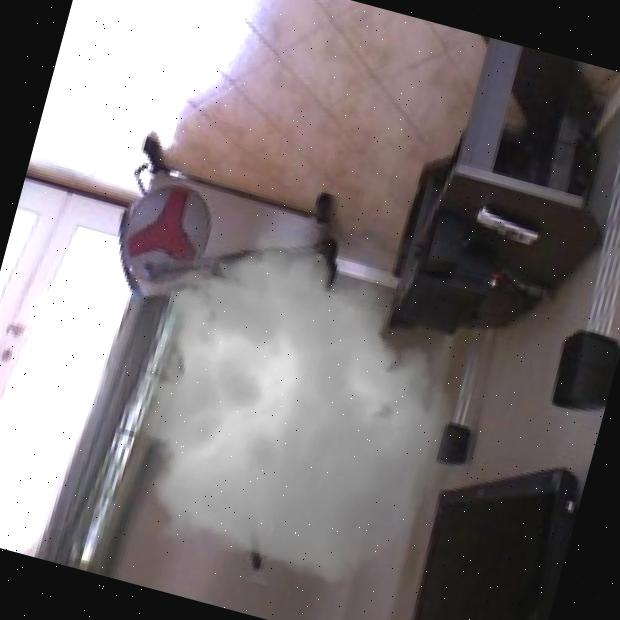smoke: (81, 188, 505, 620)
